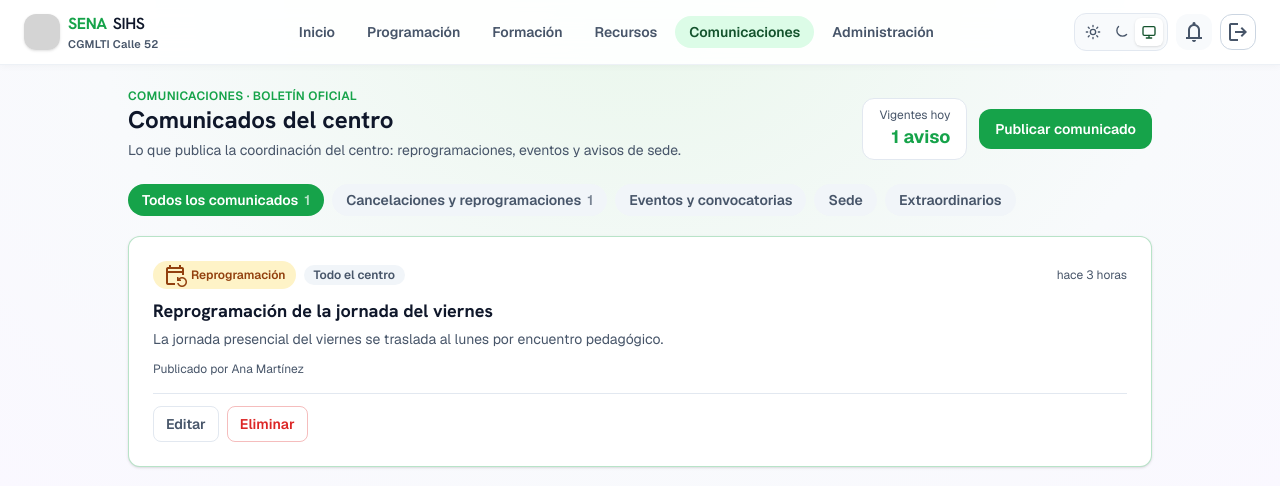
Test case: Avisos › confirma y ejecuta la eliminación en el backend
The width and height of the screenshot is (1280, 486).
Click the button "Eliminar" at [267, 424], box [227,406,308,442]
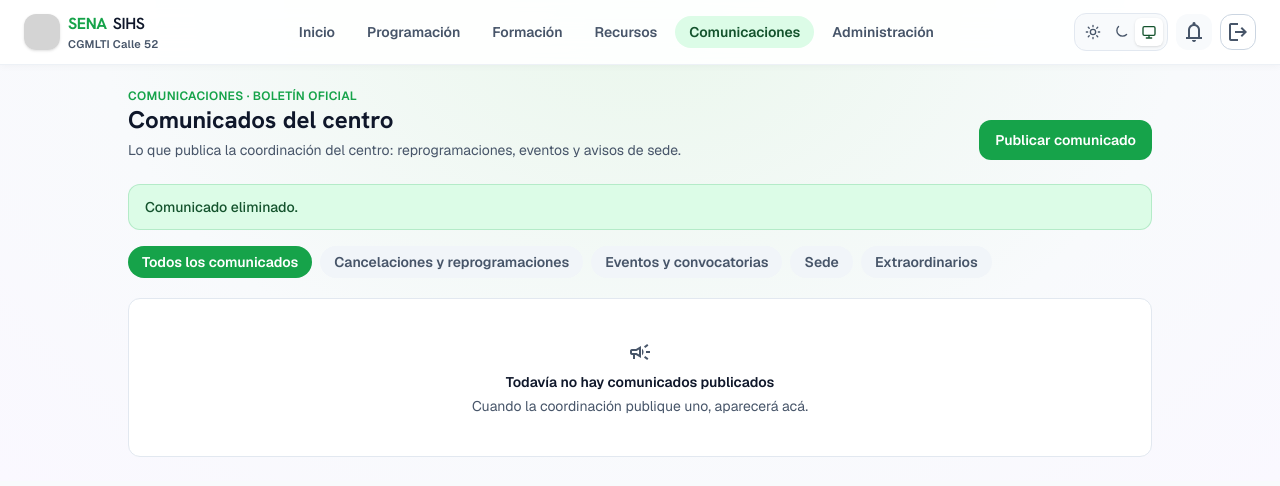
Expected: the text "Todavía no hay comunicados publicados" is shown, [506,373,774,391]
